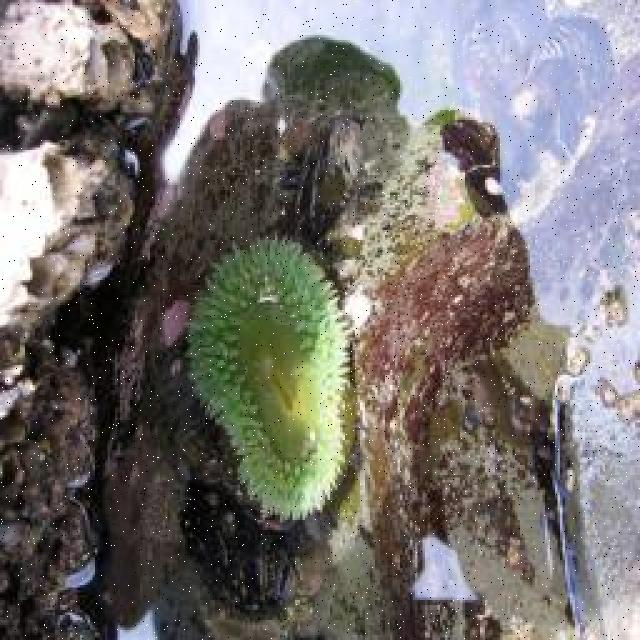reefs: (181, 239, 356, 519), (263, 37, 401, 105)
